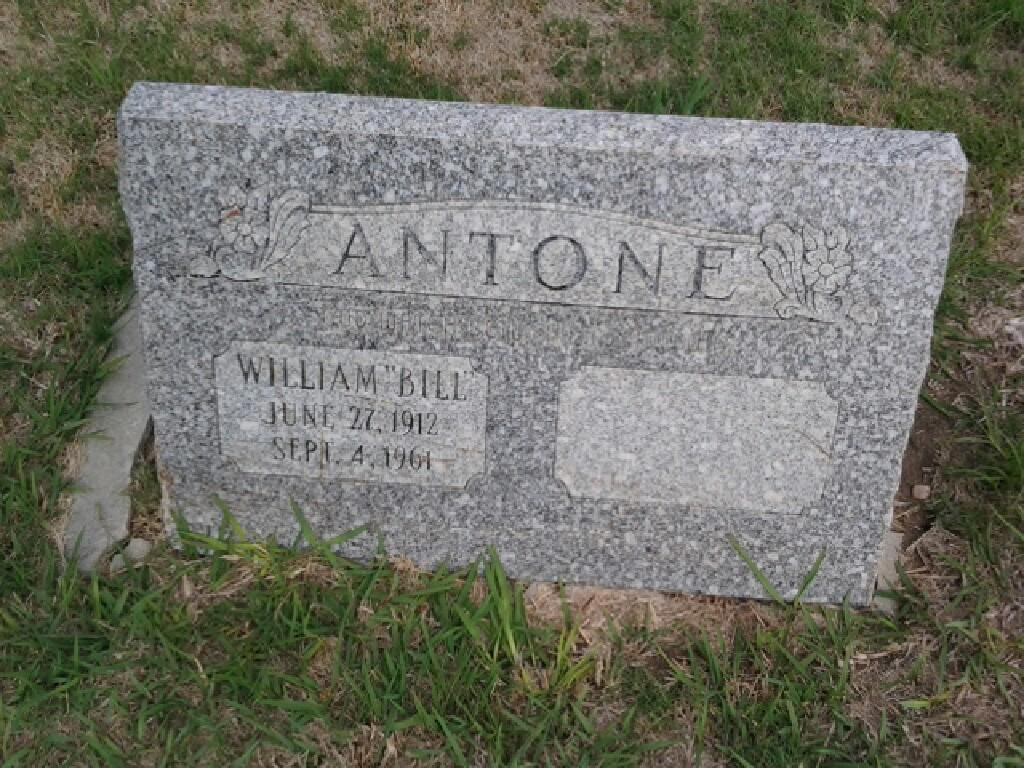upright: (93, 79, 973, 626)
